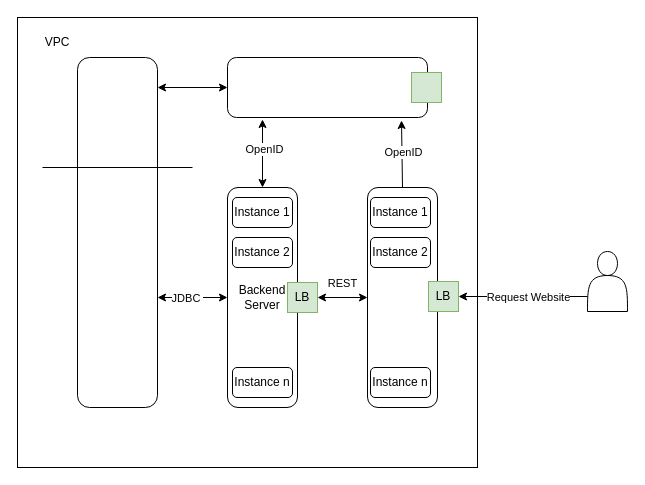
Some shapes in this 645 by 485 pixel diagram are drawn without their labels. Each missing label, with the box of its shape:
Database: (76, 56, 158, 408)
Frontend Server: (366, 186, 438, 408)
Keycloak: (226, 56, 428, 118)
